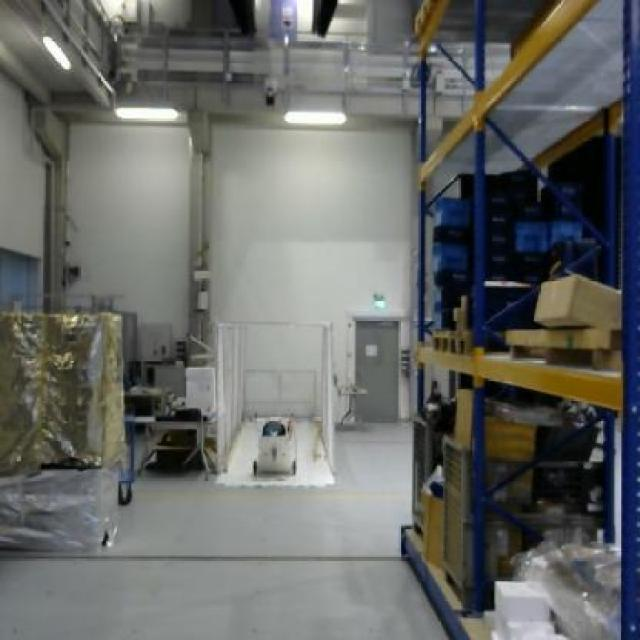box: (528, 269, 620, 328)
